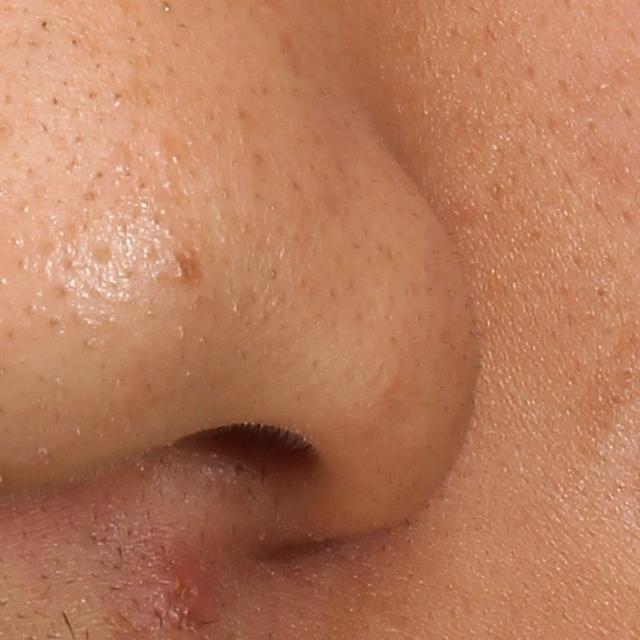nevus: (164, 248, 208, 289)
